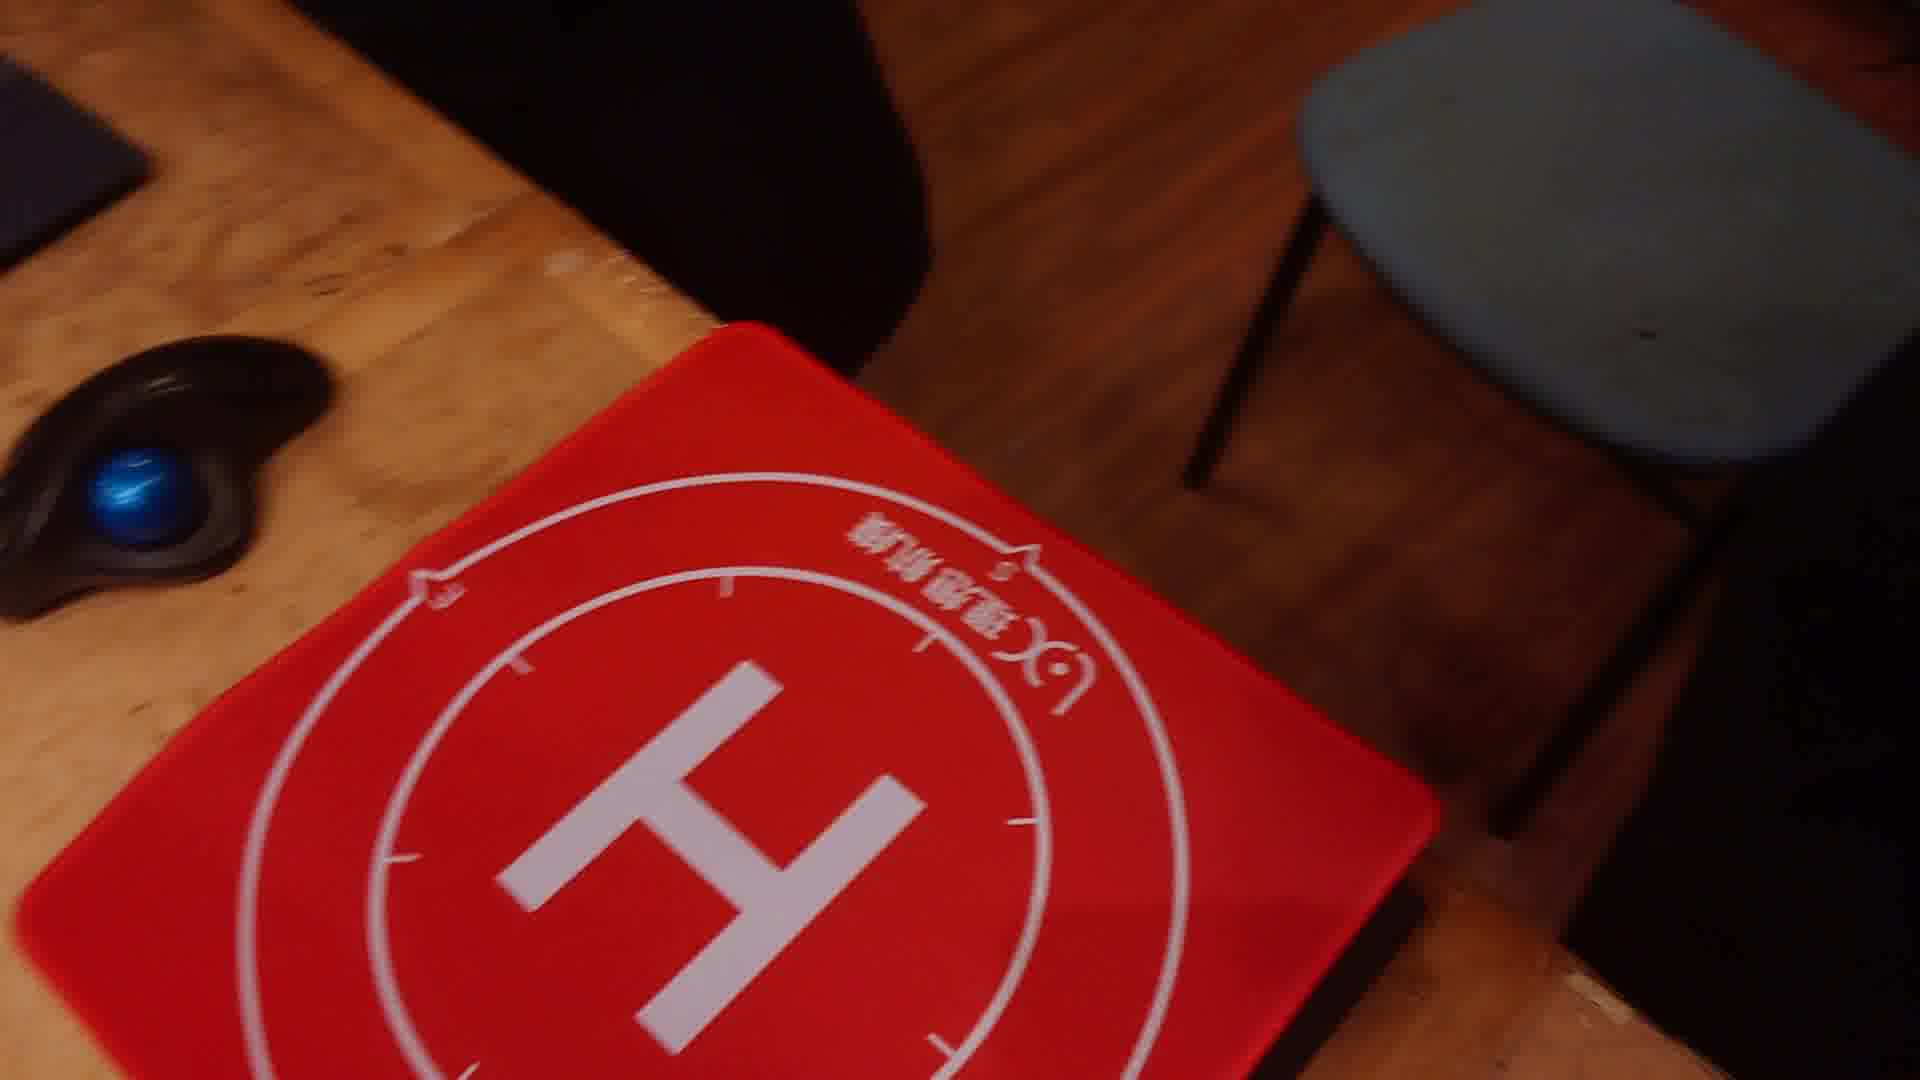H: (497, 659, 927, 1054)
